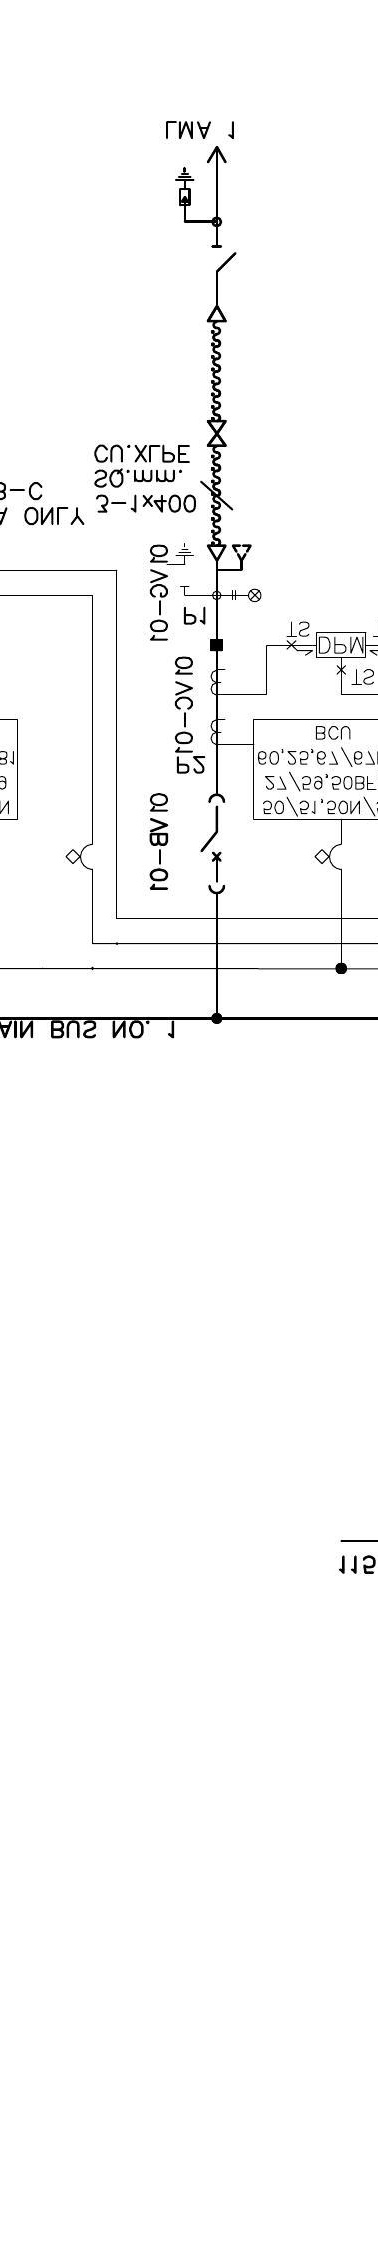22_breaker: (200, 792, 227, 895)
22_ds_la_out: (174, 145, 237, 273)
22_gs: (167, 542, 195, 588)
22_ll: (231, 588, 262, 603)
DPM: (315, 630, 368, 659)
terminator_single: (206, 305, 229, 324)
terminator_splicing_kits: (207, 420, 227, 447)
terminator_w_future: (206, 544, 253, 572)
